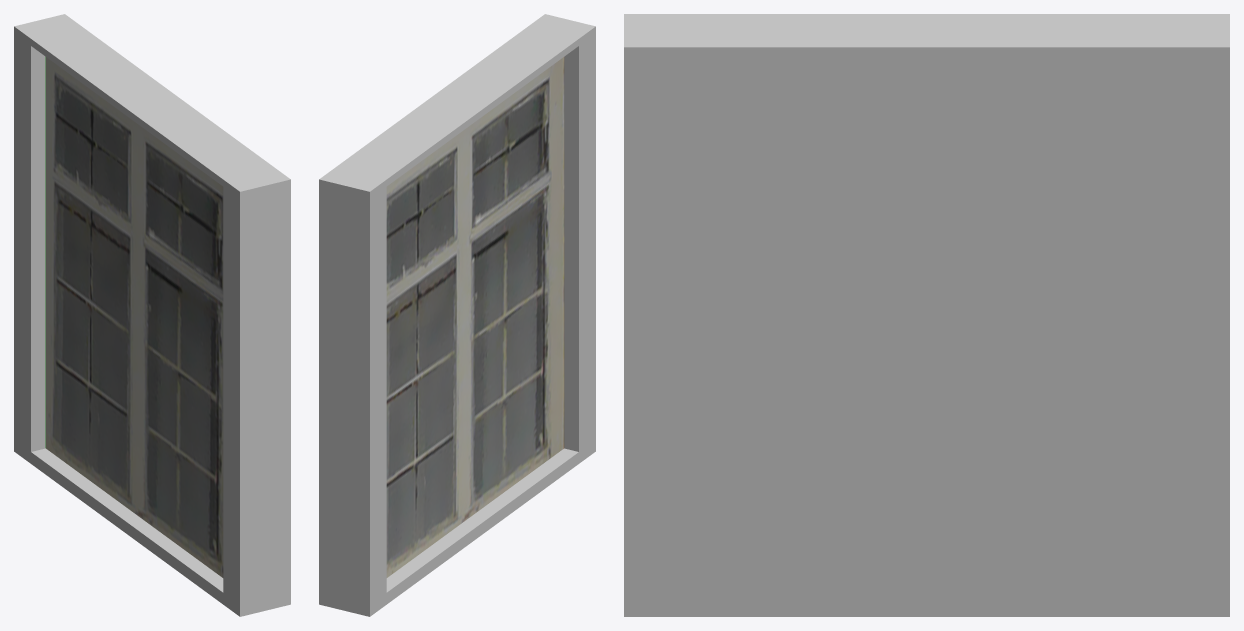
File: window0.FBX
3 views of the same model, side by side, from view 1: azimuth 30°, elevation 25°; view 2: azimuth 150°, elevation 25°; view 3: azimuth 270°, elevation 25° (orthographic). The views are drawn at different scales.
Visible parts, largest first — view 1: Box002, Box001; view 2: Box002, Box001; view 3: Box001.
Boxes of the visible parts, x1,y1,x2,y2 form: Box002: [45, 57, 223, 577]; Box001: [14, 14, 290, 616]; Box002: [386, 57, 564, 577]; Box001: [319, 14, 595, 616]; Box001: [624, 14, 1229, 616].
Size of the model in its own units: 2.7 by 21.6 by 20.82.
Materials: 2 (1 with a texture image).
